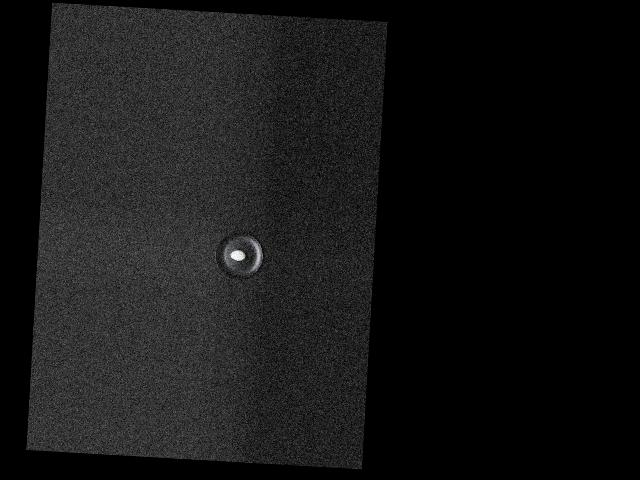egg: (230, 250, 246, 261)
